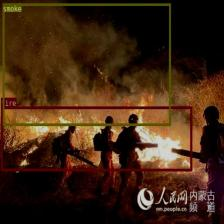fire: (0, 106, 192, 170)
smoke: (2, 3, 171, 125)
